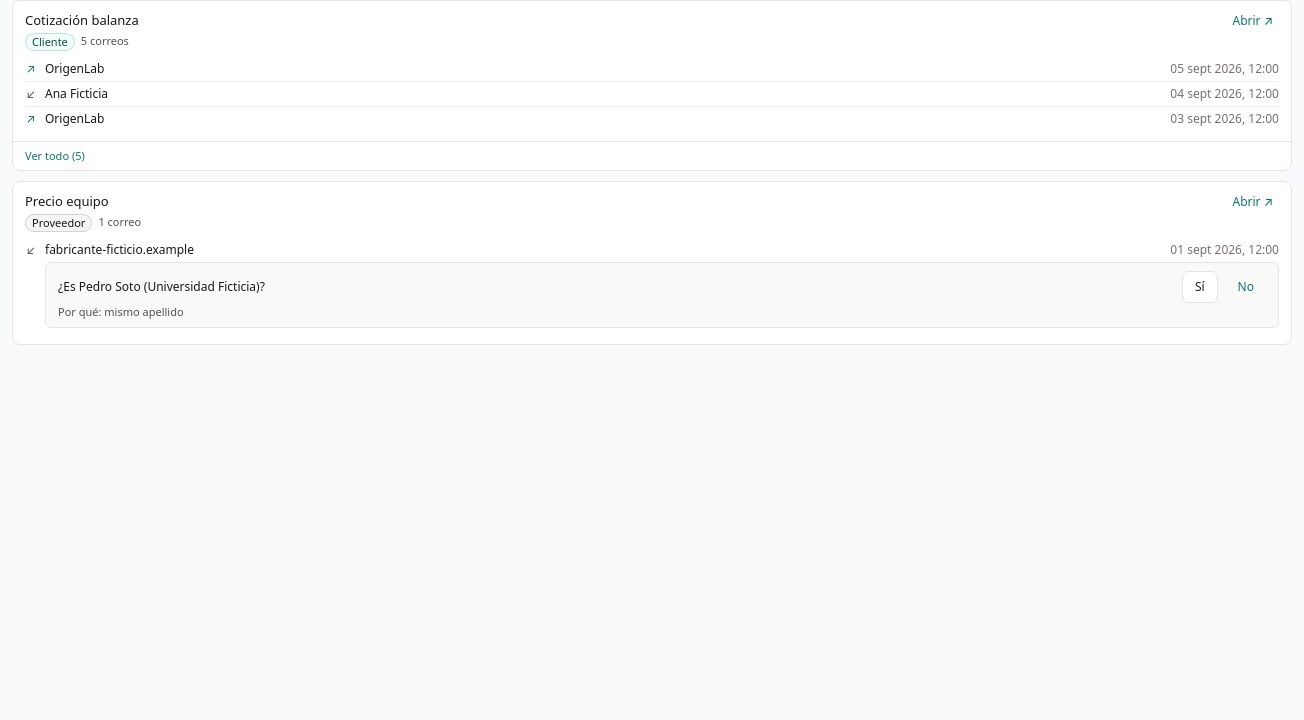
Test case: Correos del caso as cadenas › opens an email in place, quoted conversation folded, one at a time
The width and height of the screenshot is (1304, 720).
Click the button "↙ Ana Ficticia 04 sept 2026, 12:00" at (77, 92), box [19, 82, 1285, 106]
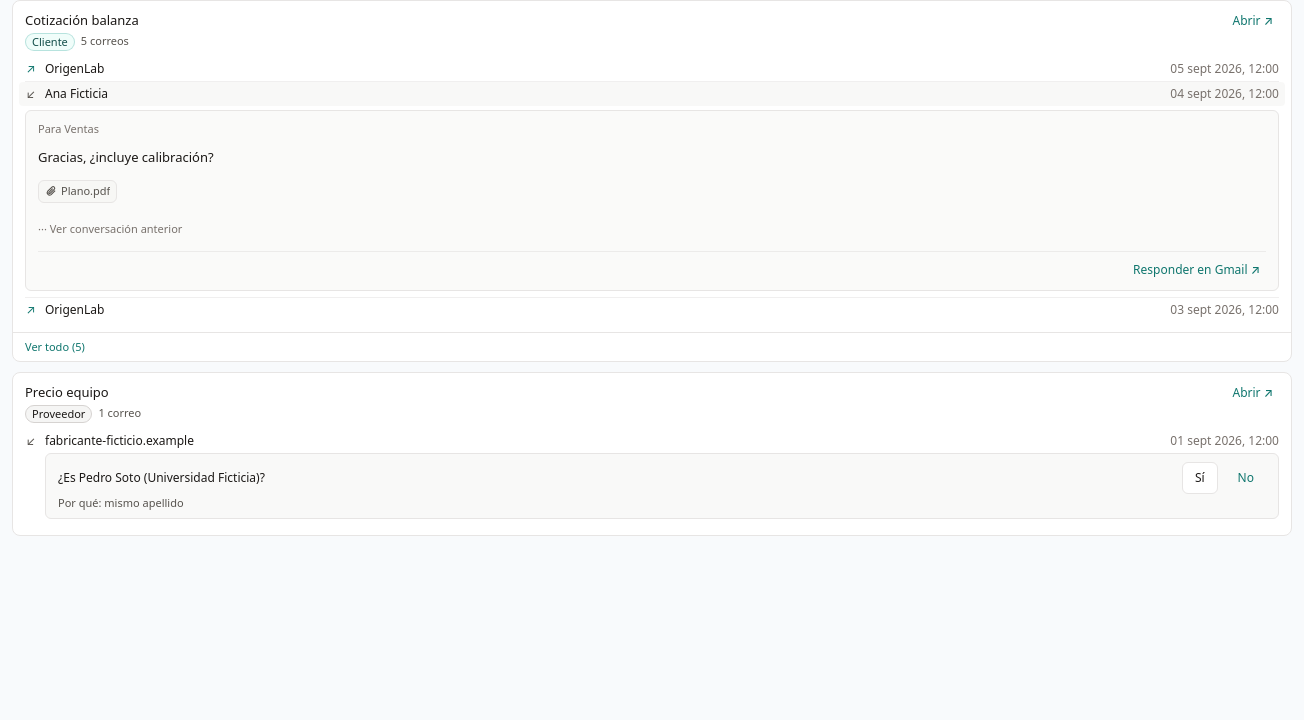
Check: the element with test id "mail-message" does not show "Adjunto cotización", box [38, 120, 214, 237]
Check: the element with test id "mail-message" shows "Gracias, ¿incluye calibración?", box [38, 148, 214, 166]
Check: the element with test id "mail-message" shows "Plano.pdf", box [61, 183, 110, 198]
Click the button "··· Ver conversación anterior" at (110, 229), box [38, 221, 182, 237]
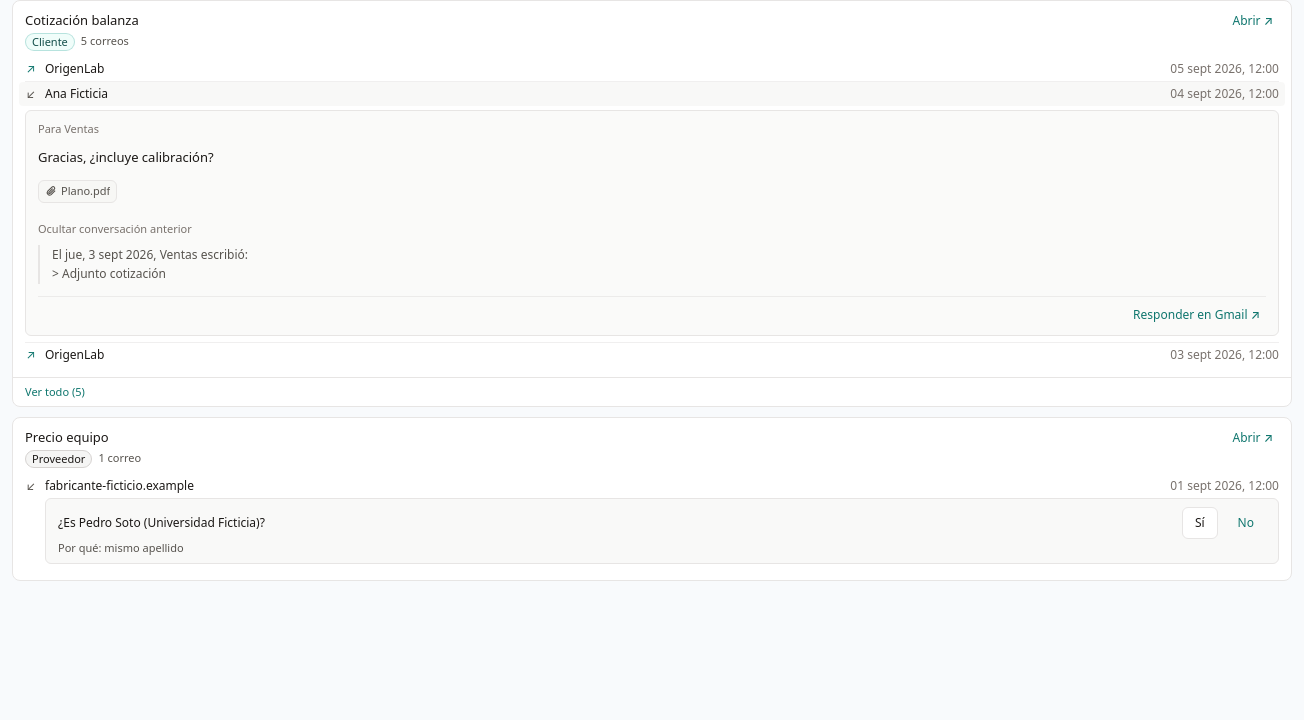
Check: the element with test id "mail-message" shows "Adjunto cotización", box [52, 246, 248, 282]
Click the button "↙ Ana Ficticia 04 sept 2026, 12:00" at (77, 92), box [19, 82, 1285, 106]
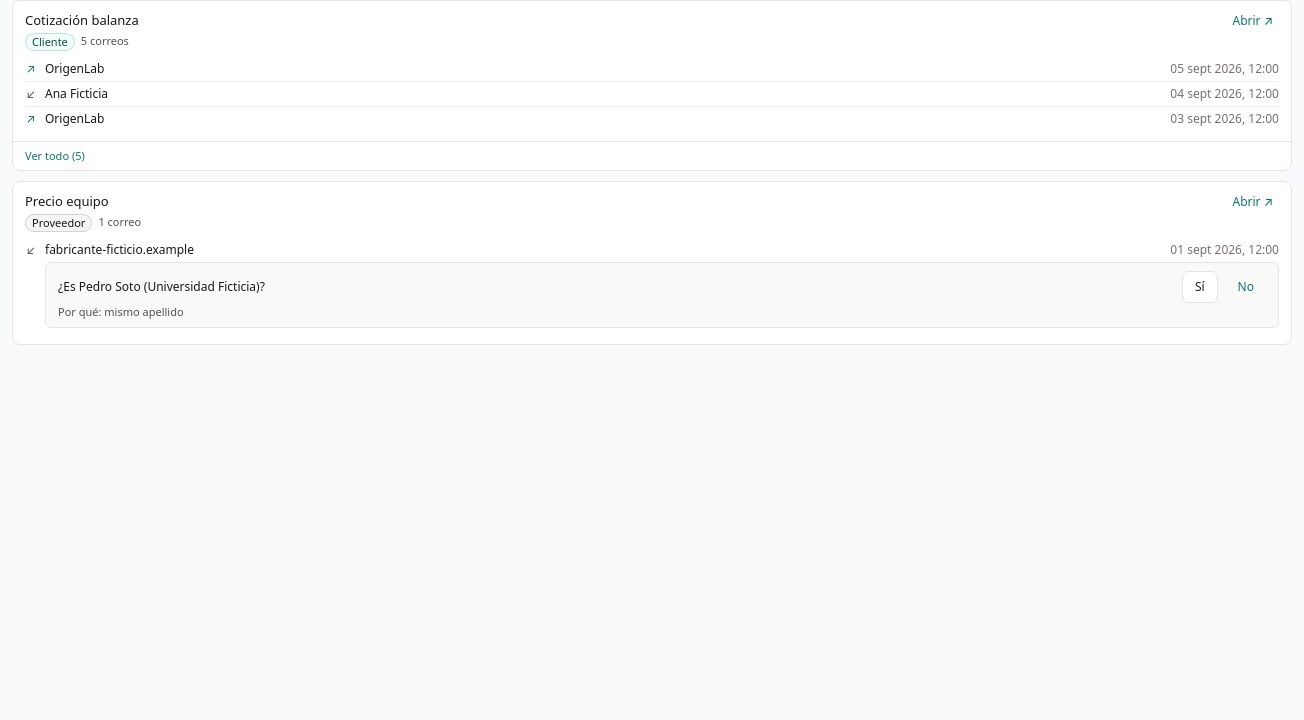
Check: the element with test id "mail-message" is gone
